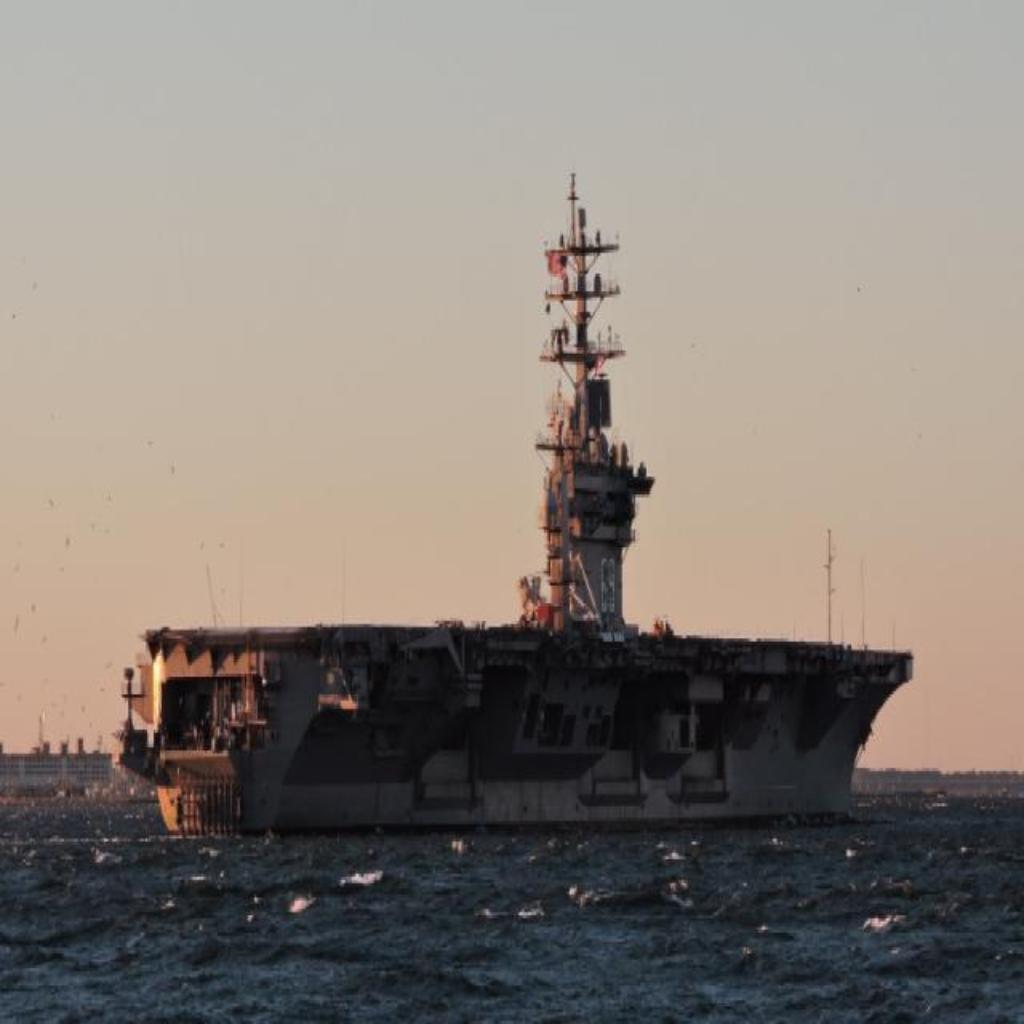Warship: (116, 157, 912, 845)
